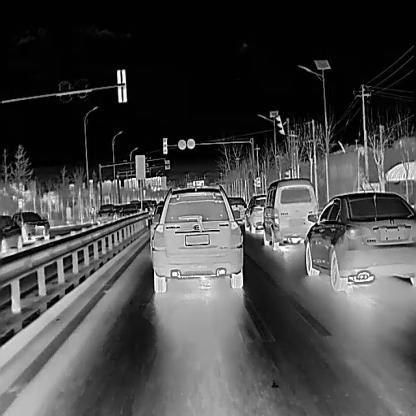car: (303, 190, 415, 294), (151, 184, 241, 293), (262, 177, 319, 250), (12, 210, 49, 242), (243, 193, 271, 233), (0, 213, 21, 254), (227, 195, 246, 222), (95, 202, 116, 225), (120, 205, 140, 223)
